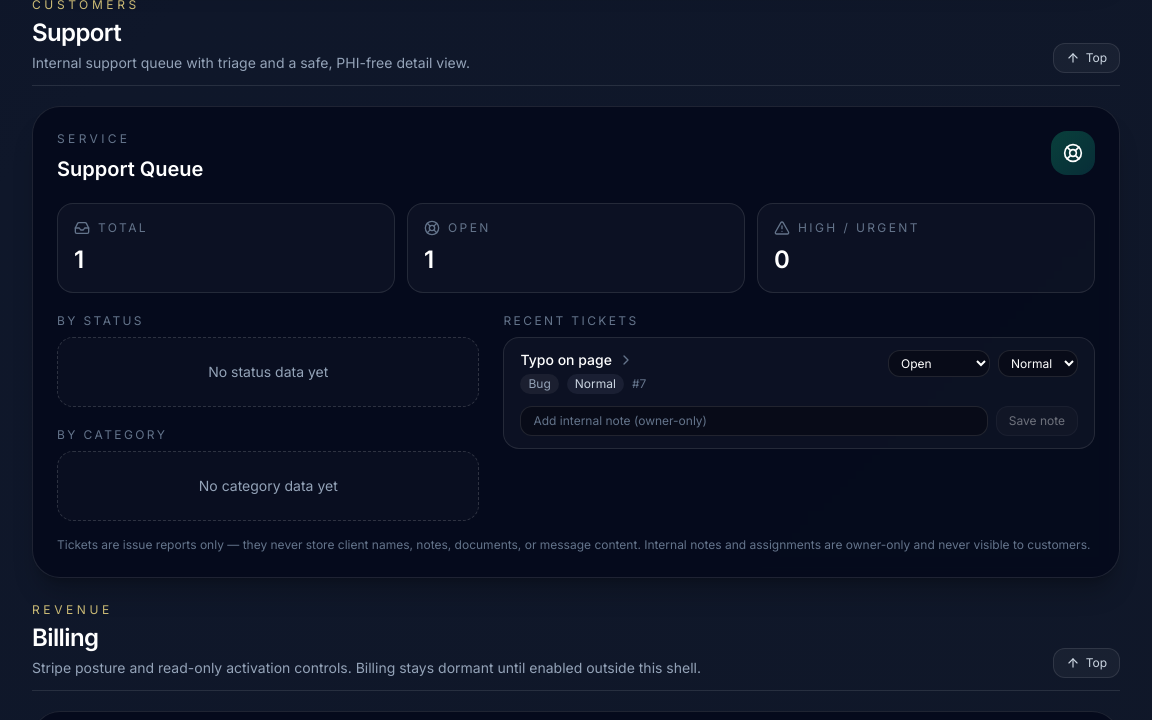
Test: Owner Cockpit support ticket detail drawer › opens the detail drawer with safe ticket fields when a ticket is clicked
(page scrolled)
Click the button with aria-label "Open ticket 7: Typo on page" at (583, 360), box top-left (520, 350), bottom-right (646, 370)
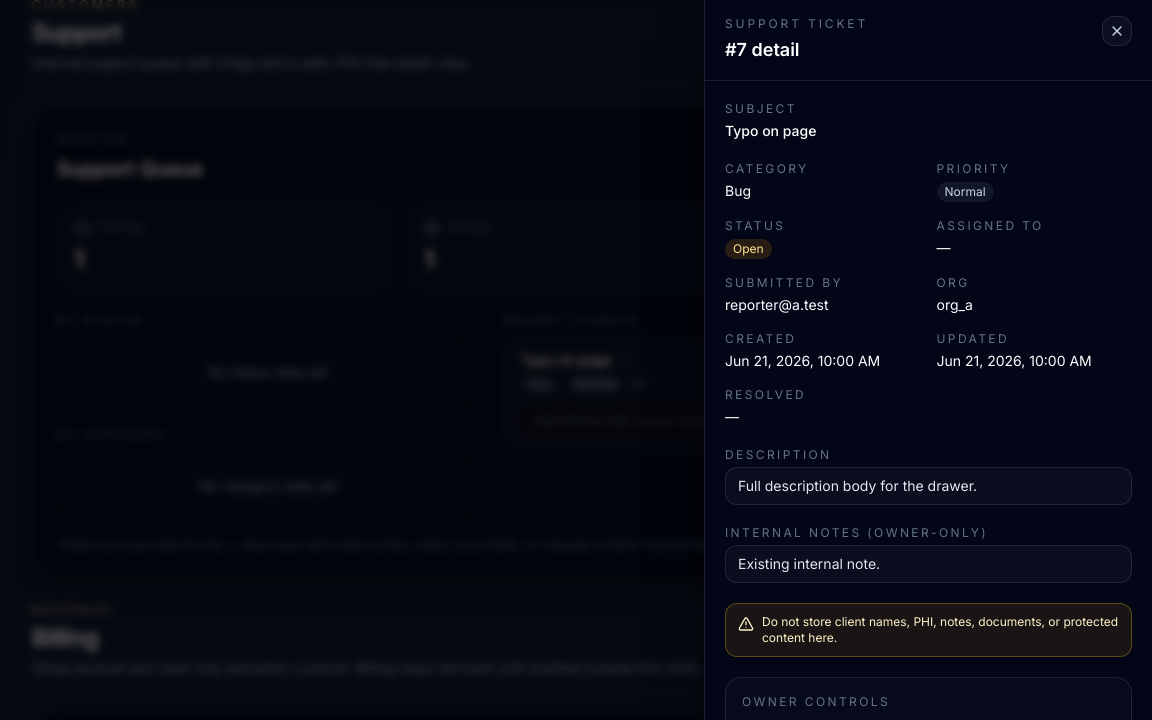
Expected: the dialog is shown, top-left (704, 0), bottom-right (1151, 719)
Expected: the text "Full description body for the drawer." is shown, top-left (725, 467), bottom-right (1132, 505)
Expected: the text "Existing internal note." is shown, top-left (725, 545), bottom-right (1132, 583)
